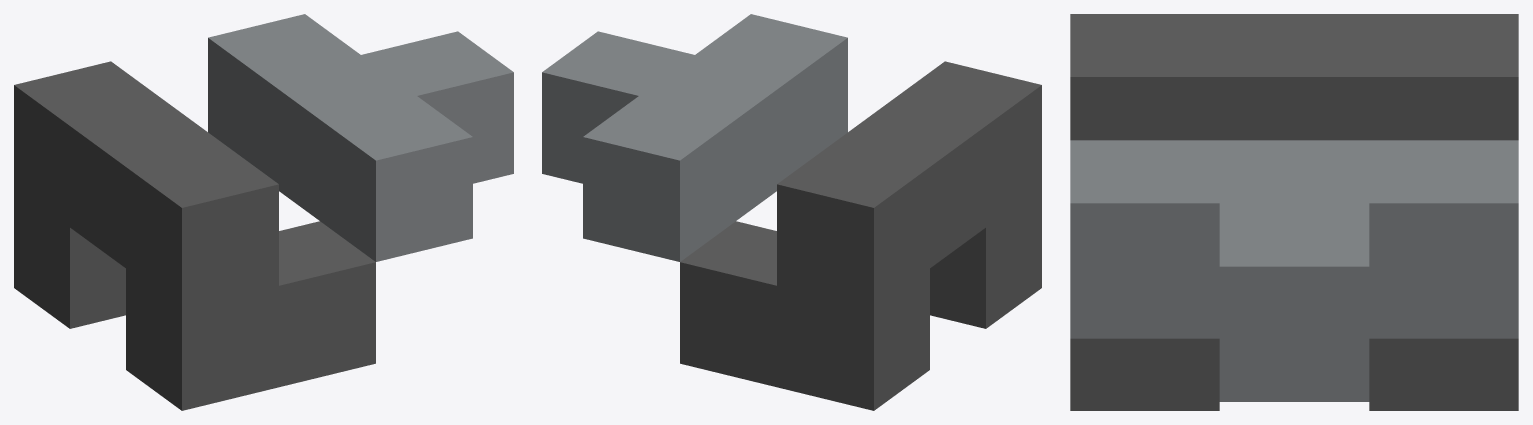
The model's file is Leg-61.obj.
3 views of the same model, side by side, from view 1: azimuth 30°, elevation 25°; view 2: azimuth 150°, elevation 25°; view 3: azimuth 270°, elevation 25° (orthographic). The views are drawn at different scales.
Size of the model in its own units: 0.4 by 0.2 by 0.3.
Materials: 1 (1 with a texture image).
